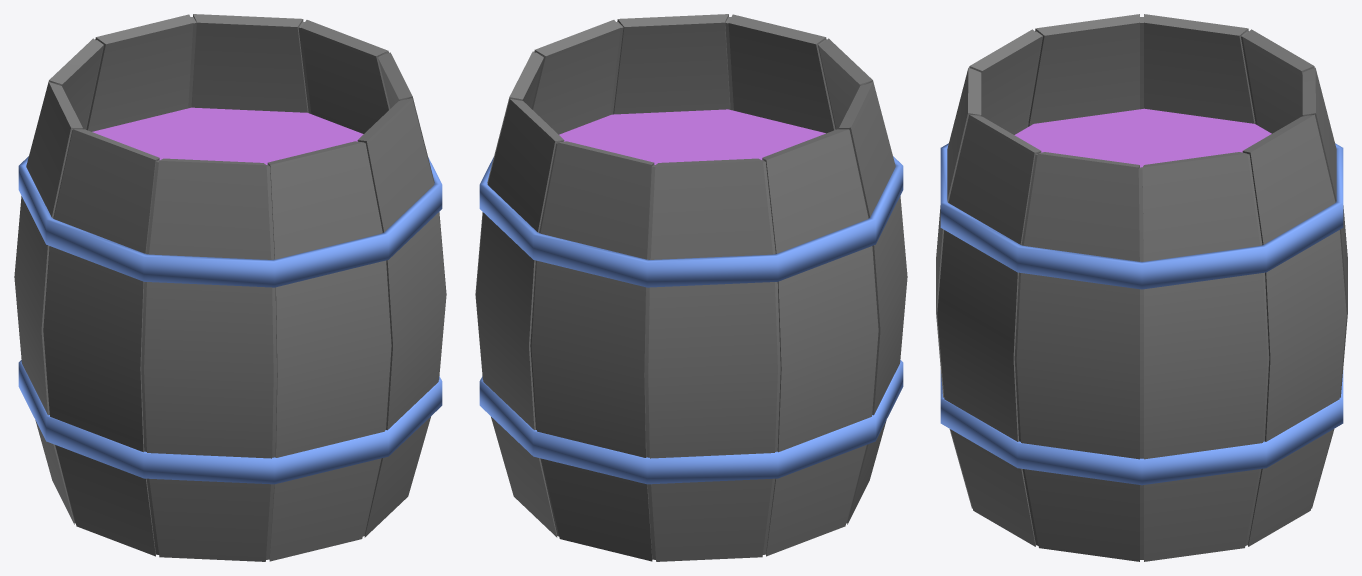
The model's file is water_barrel.fbx.
3 renders of one model, left to right at view 1: azimuth 30°, elevation 25°; view 2: azimuth 150°, elevation 25°; view 3: azimuth 270°, elevation 25°, orthographic.
Visible parts, largest first — view 1: Cylinder001, Shape, Cylinder002; view 2: Cylinder001, Shape, Cylinder002; view 3: Cylinder001, Shape, Cylinder002.
Part boxes in pixels (x1,y1,x2,y2): Cylinder001: (14, 14, 446, 561); Shape: (18, 156, 442, 484); Cylinder002: (92, 107, 363, 164); Cylinder001: (475, 14, 907, 561); Shape: (479, 156, 903, 484); Cylinder002: (559, 109, 825, 164); Cylinder001: (936, 14, 1347, 561); Shape: (940, 143, 1343, 485); Cylinder002: (1014, 108, 1271, 167).
Size of the model in its own units: 46.86 by 44.69 by 47.44.
